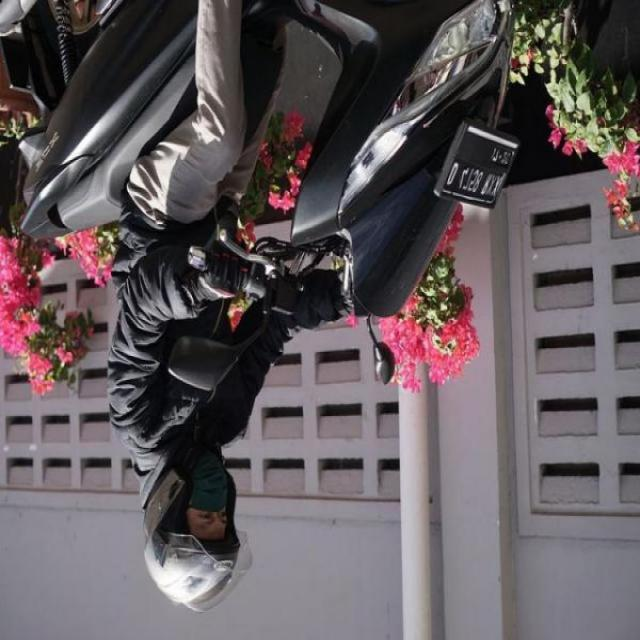Helmet: (121, 469, 274, 607)
